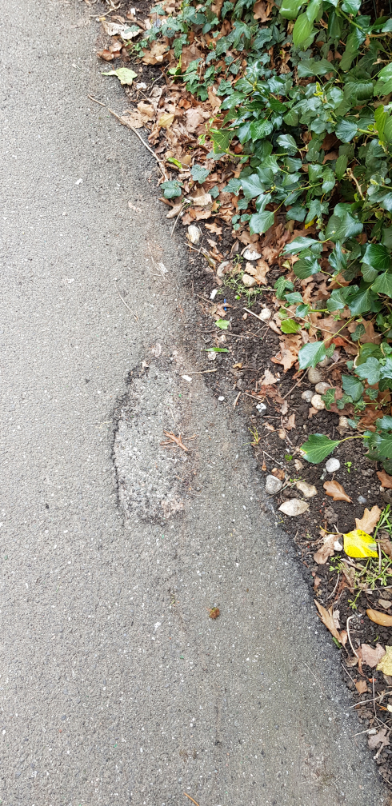pothole: (107, 354, 188, 532)
